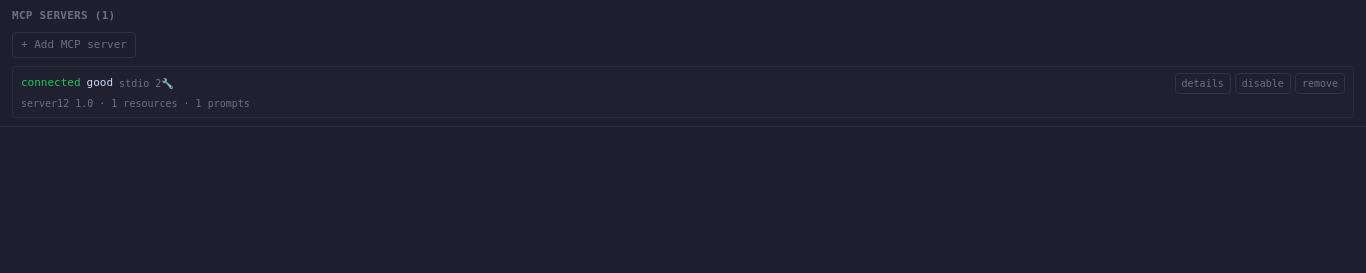
Test: McpSection — what the user sees and presses › details load the discovered tools, resources and prompts for that server
Click the button "details": x=1203, y=84 [1175,73,1231,94]
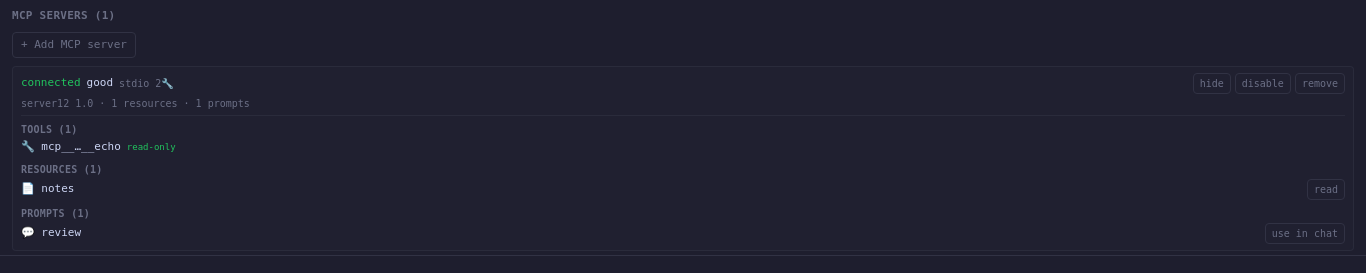
Check: the element showing "🔧 mcp__…__echo read-only" is shown, box [21,140,176,153]
Check: the element showing "📄 notes read" is shown, box [21,178,1345,200]
Check: the element showing "💬 review use in chat" is shown, box [21,222,1345,244]
